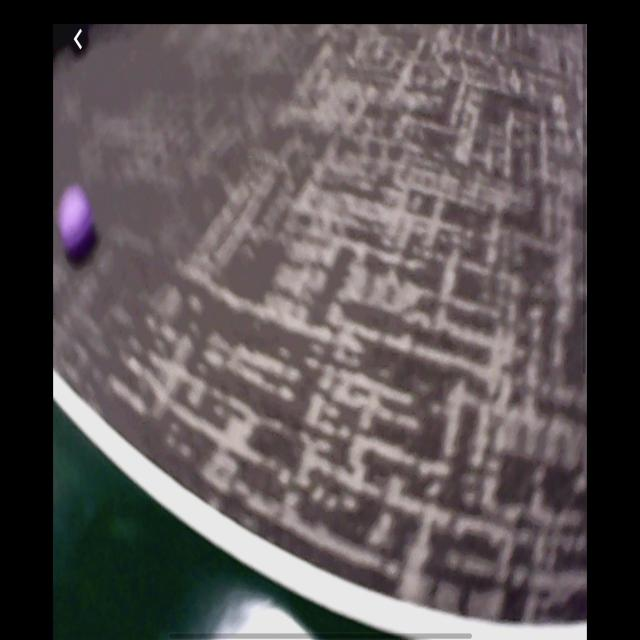ball: (57, 183, 98, 267)
